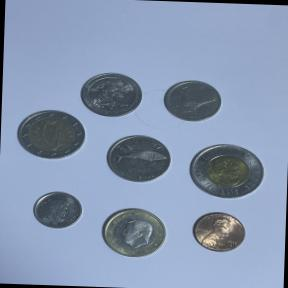1 Euro-B: (92, 200, 175, 262)
2 Euro-B: (11, 106, 89, 162)
Canada-10cent-B: (24, 184, 86, 234)
Canada-2Dollar-B: (183, 138, 269, 202)
Croatia-2Kune-B: (101, 132, 174, 185)
US-1cent-B: (186, 204, 254, 256)
US-25cent-B: (76, 70, 146, 119)
